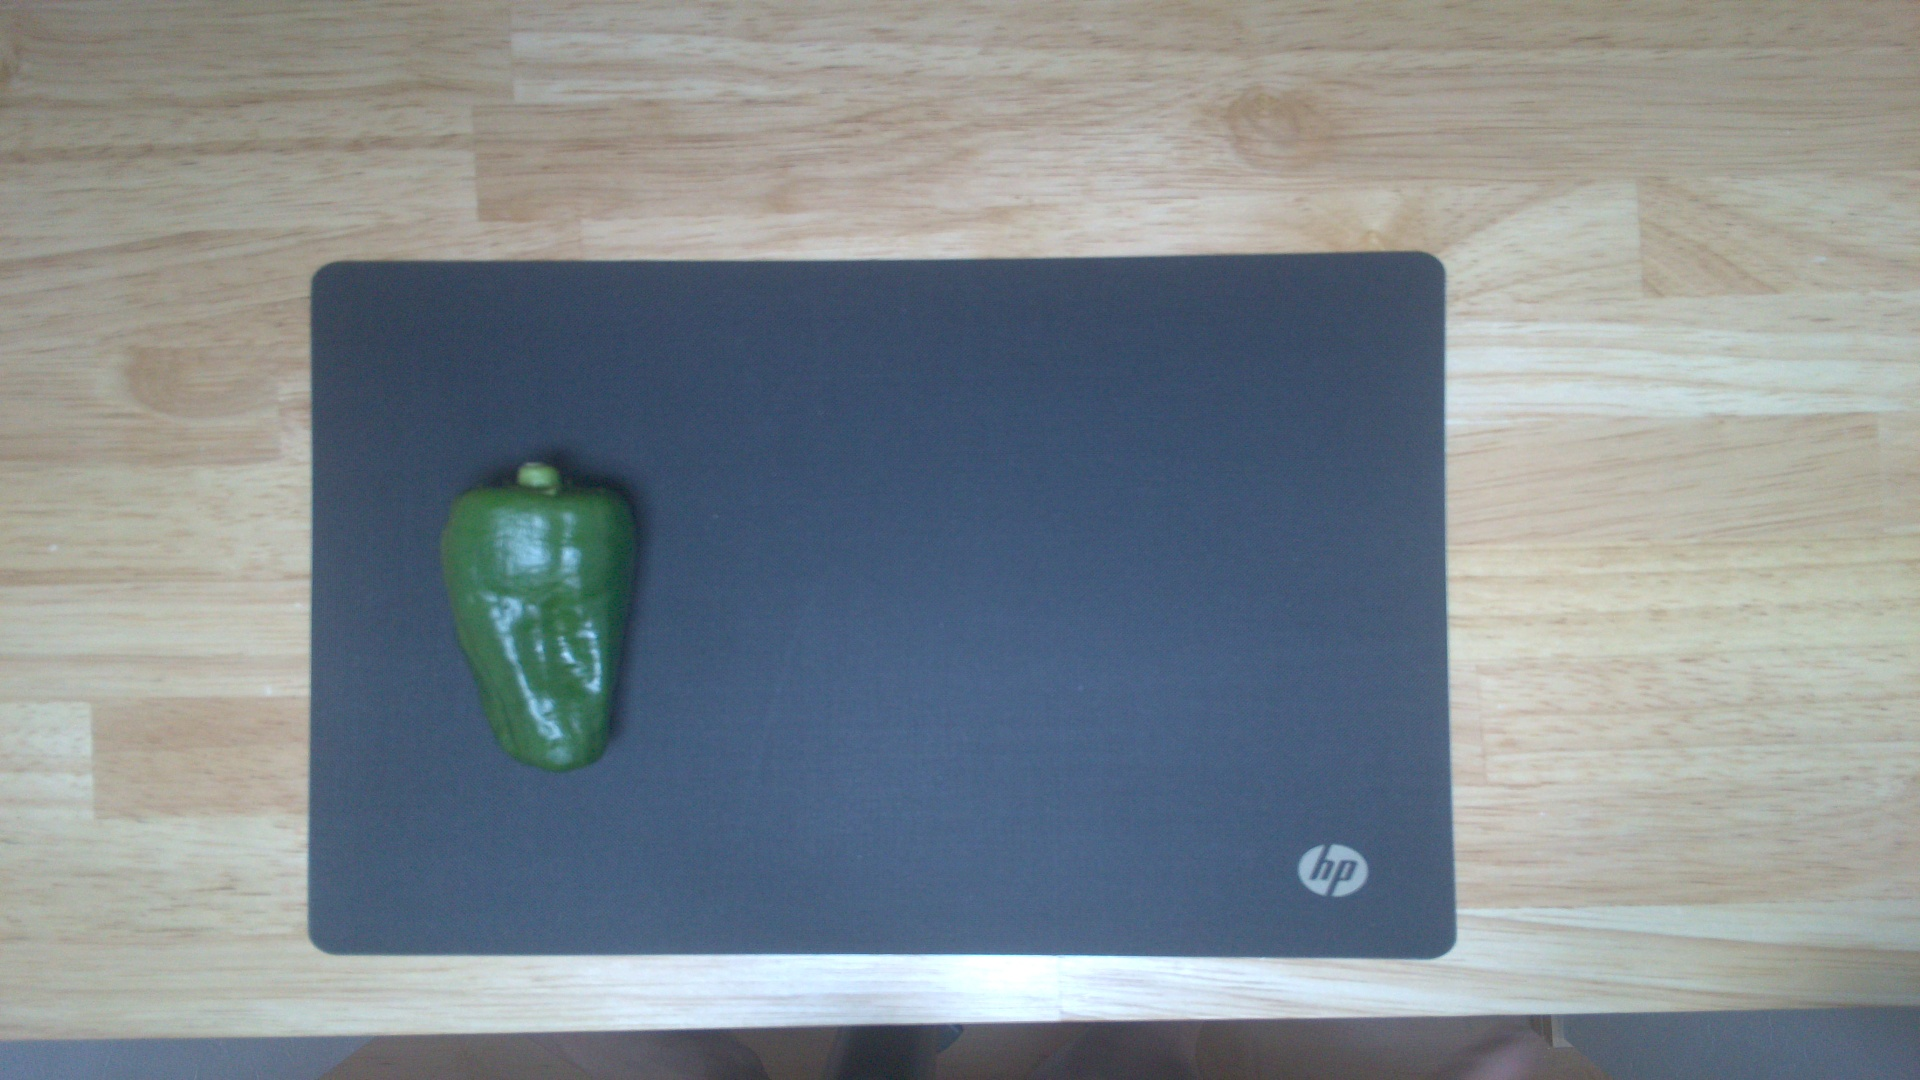Piman: (434, 456, 638, 774)
